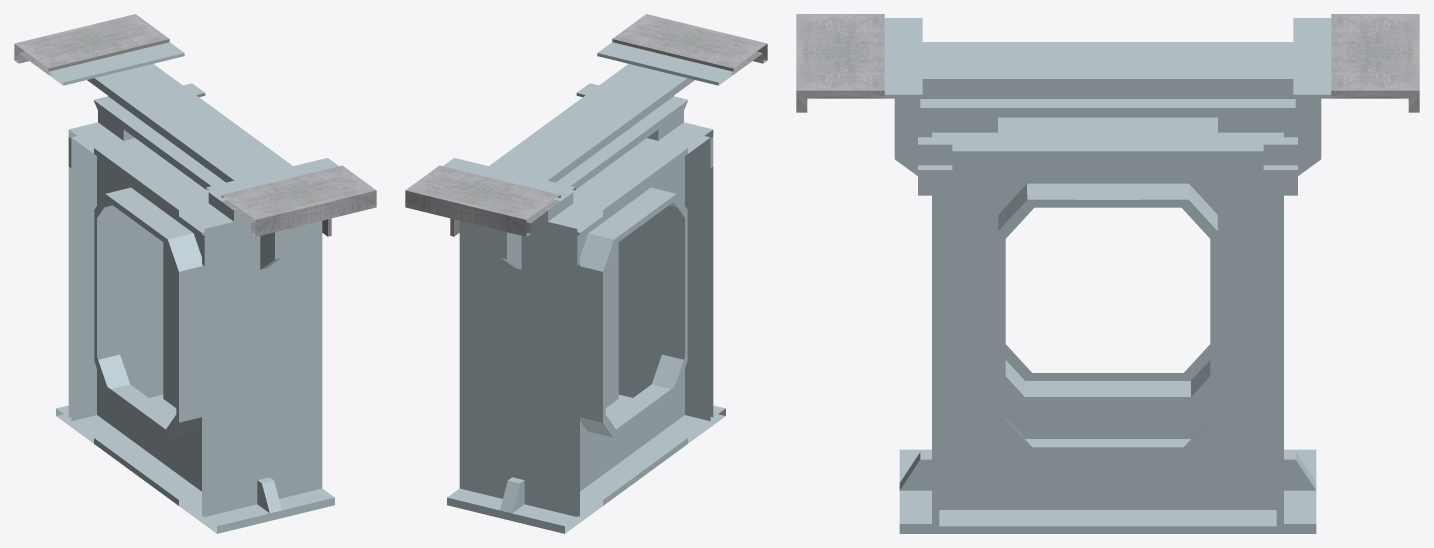
File: rail_joint.dae
3 renders of one model, left to right at view 1: azimuth 30°, elevation 25°; view 2: azimuth 150°, elevation 25°; view 3: azimuth 270°, elevation 25°, orthographic. The views are drawn at different scales.
Parts seen in each view (by area): view 1: Cube.001; view 2: Cube.001; view 3: Cube.001.
Boxes of the visible parts, bbox=[...] form: Cube.001: bbox=[14, 14, 376, 533]; Cube.001: bbox=[405, 14, 767, 533]; Cube.001: bbox=[796, 14, 1419, 533].
Bounding box in the file's own units: 1.11 × 3.54 × 2.79.
Materials: 3 (2 with a texture image).
